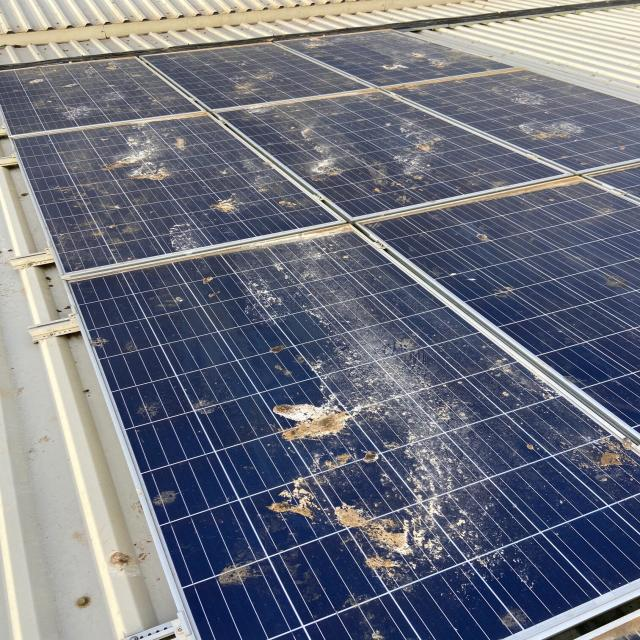dust-solar-panel: (3, 29, 640, 640)
